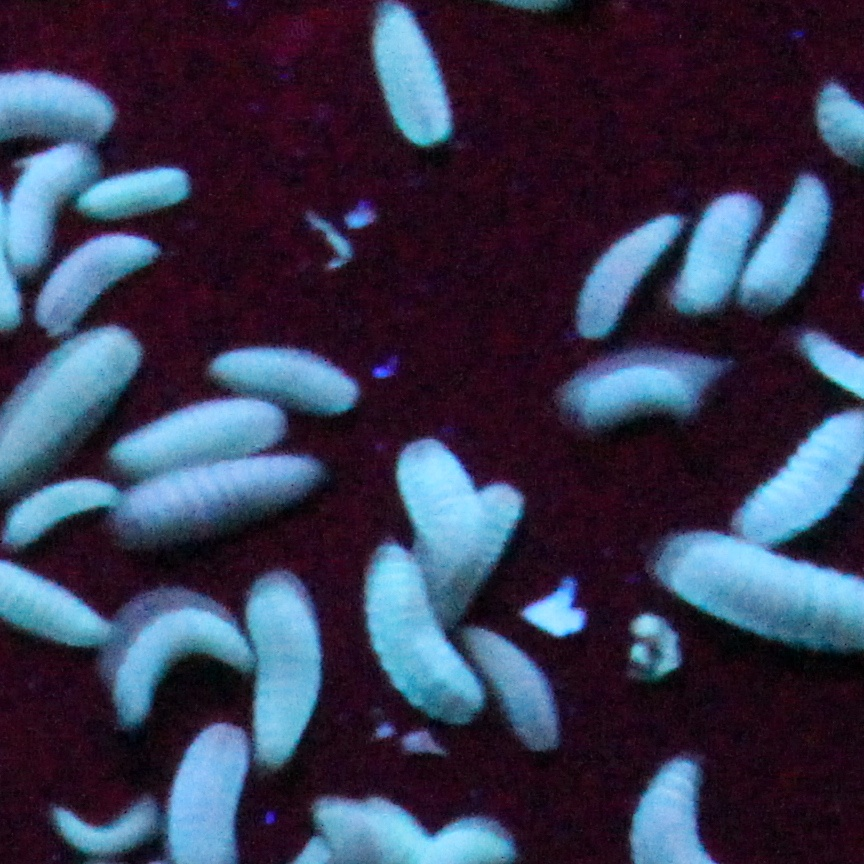larve: (361, 545, 484, 716), (108, 591, 241, 729), (120, 460, 313, 540), (249, 563, 320, 770), (367, 8, 462, 155), (113, 398, 285, 473), (464, 621, 559, 750), (40, 233, 158, 335), (210, 334, 362, 411), (585, 209, 677, 334), (748, 177, 828, 311), (400, 434, 459, 614), (10, 144, 87, 261), (684, 191, 753, 308), (3, 491, 116, 546), (46, 800, 157, 854), (85, 167, 191, 213)
